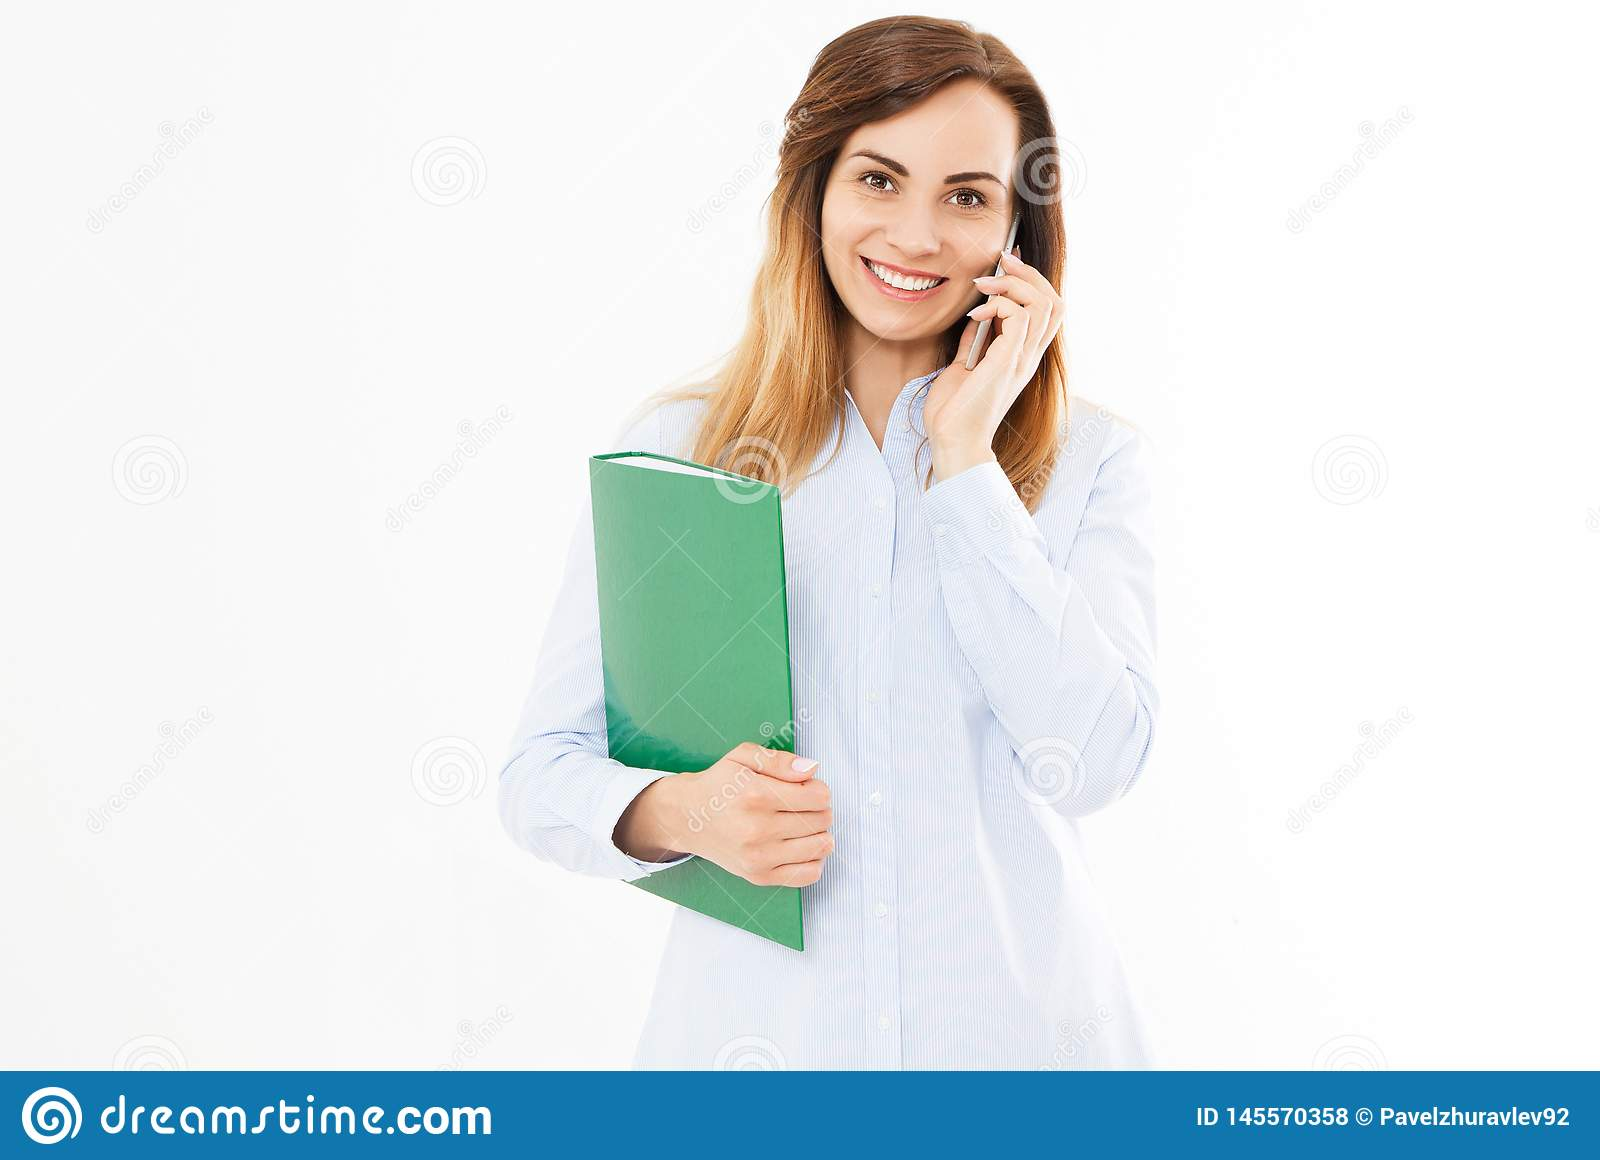phone: (961, 205, 1027, 370)
talk: (824, 142, 1067, 472)
